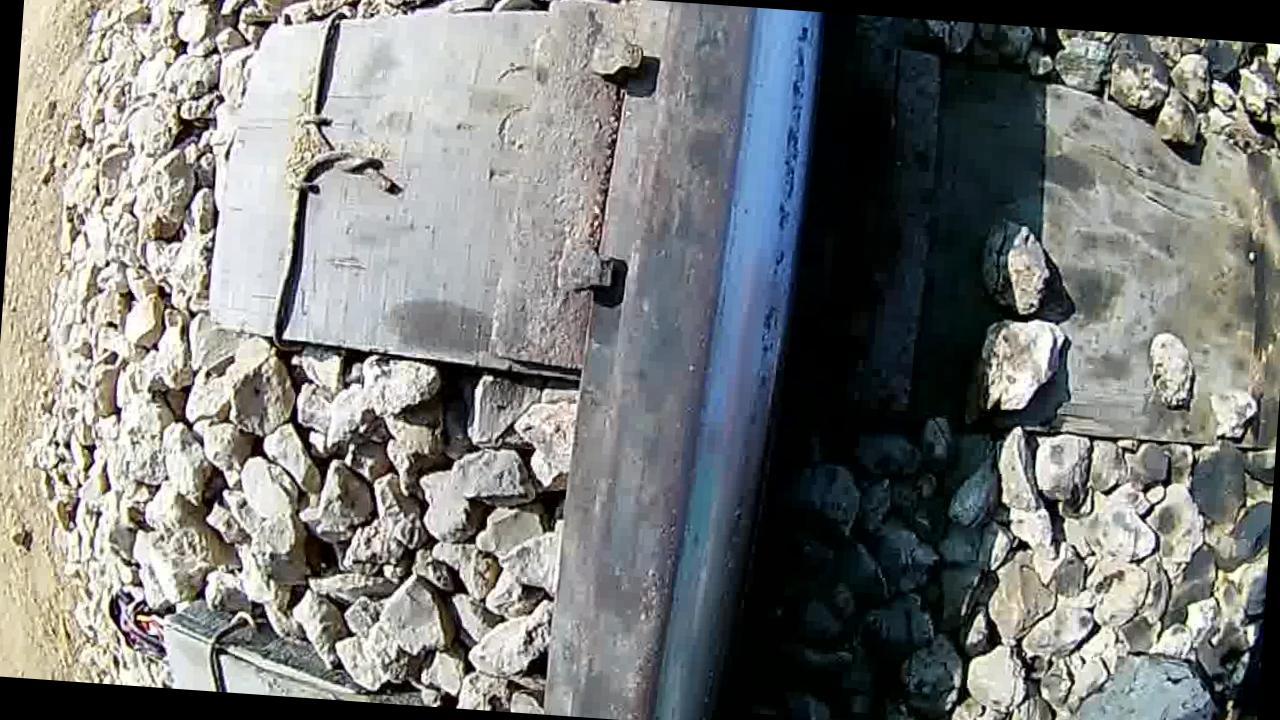crack: (601, 3, 822, 720)
